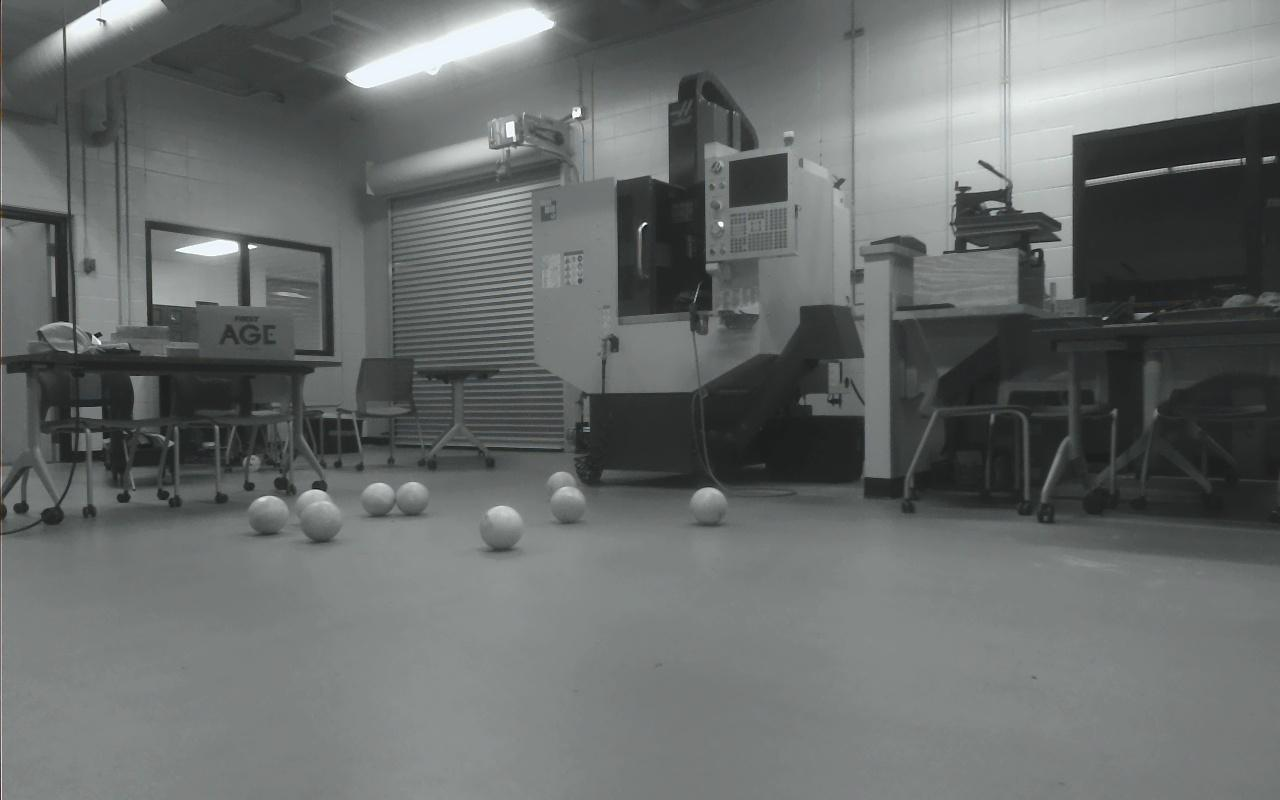Fuel: (479, 505, 525, 551), (301, 499, 343, 543), (248, 495, 288, 536), (689, 486, 728, 526), (549, 485, 586, 524), (360, 482, 396, 517), (394, 481, 430, 516), (294, 489, 330, 521), (545, 472, 576, 501)
